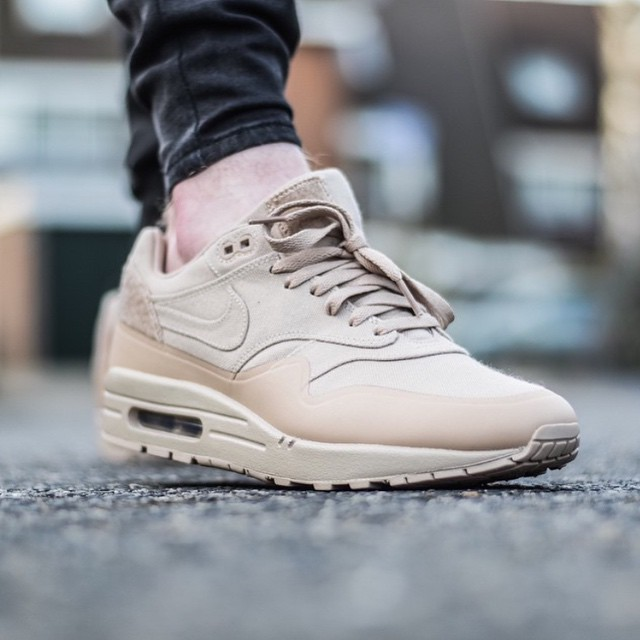sneaker: (54, 126, 611, 522)
